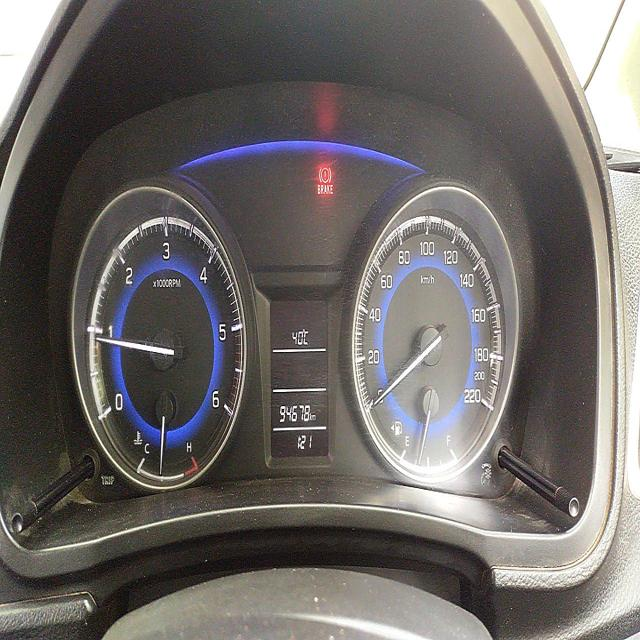odometer: (278, 401, 311, 424)
